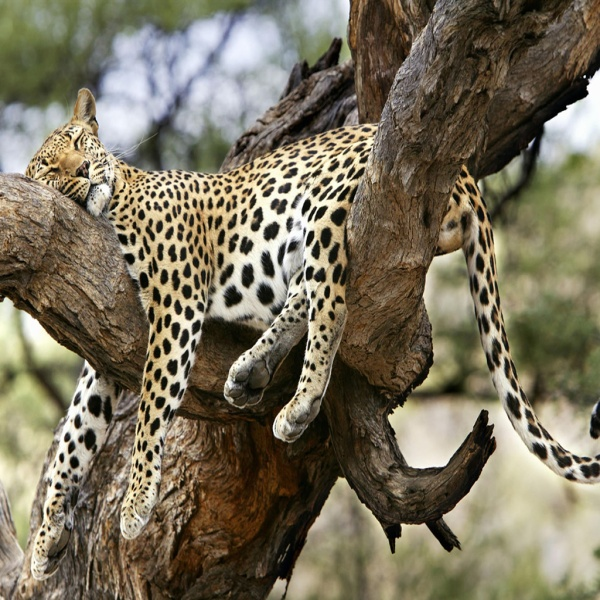Cheetah: (20, 81, 598, 582)
